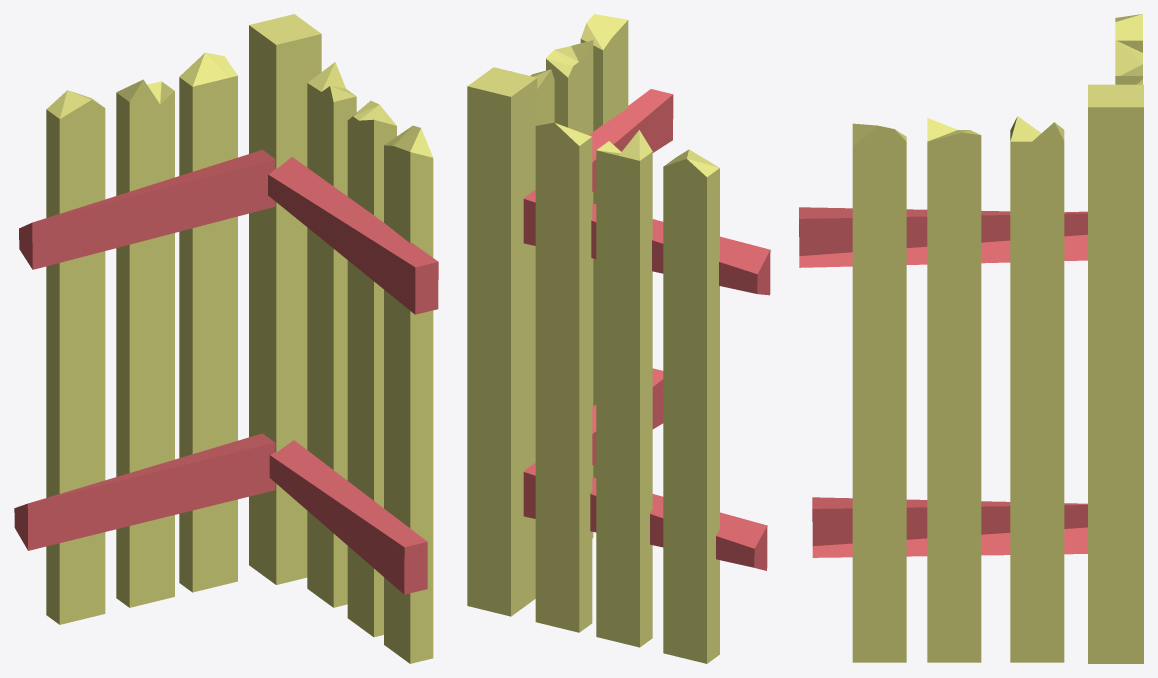
Rendered from Fence_Corner 1.fbx.
3 renders of one model, left to right at view 1: azimuth 30°, elevation 25°; view 2: azimuth 150°, elevation 25°; view 3: azimuth 270°, elevation 25°, orthographic. The views are drawn at different scales.
Parts seen in each view (by area): view 1: Cube.037, Cube.038; view 2: Cube.037, Cube.038; view 3: Cube.037, Cube.038.
Boxes of the visible parts, <box> form: Cube.037: <box>46,14,433,663</box>; Cube.038: <box>14,150,438,594</box>; Cube.037: <box>467,14,719,663</box>; Cube.038: <box>523,89,770,570</box>; Cube.037: <box>852,14,1143,663</box>; Cube.038: <box>799,207,1087,557</box>.
Size of the model in its own units: 125 by 224 by 126.
